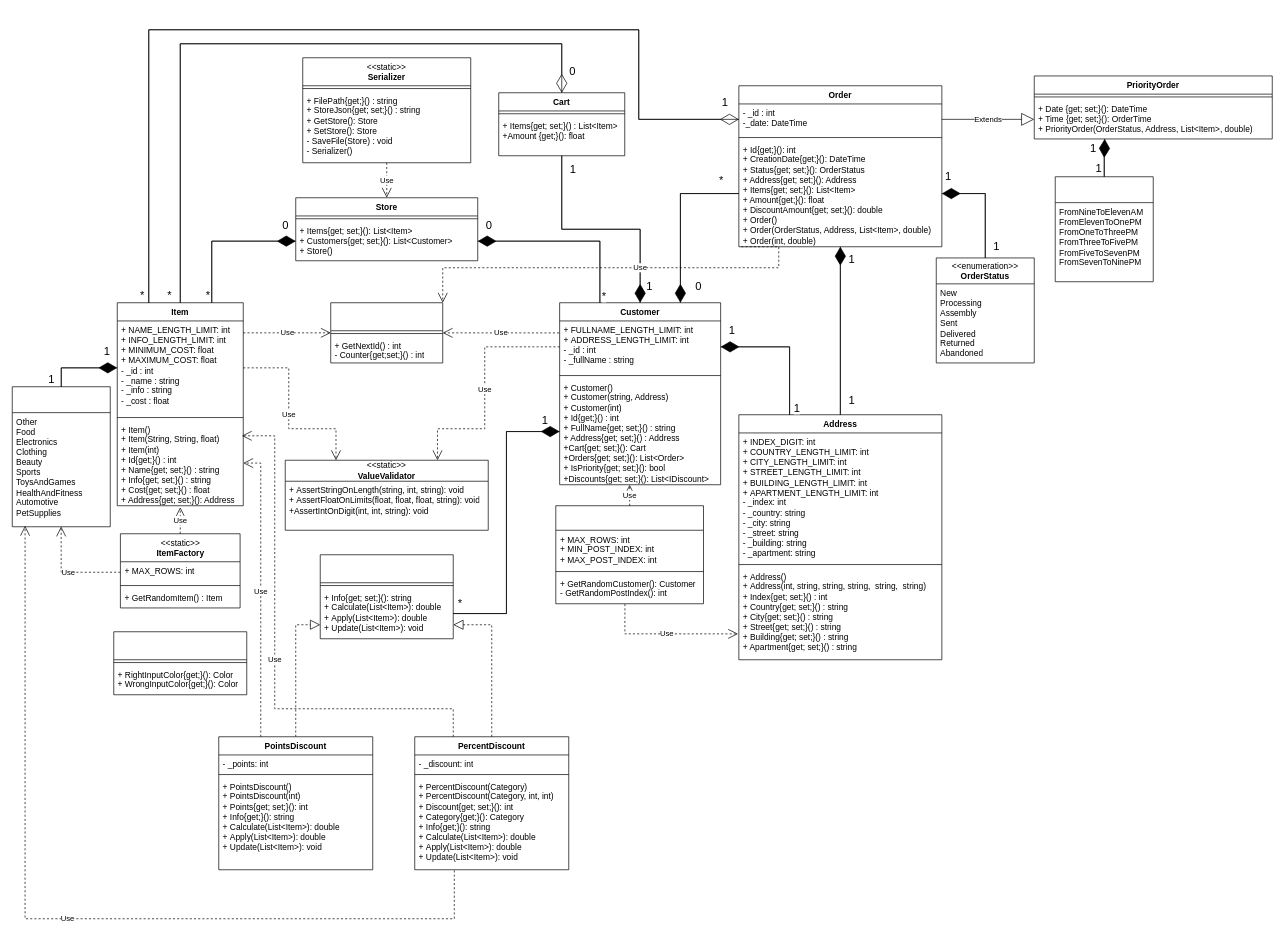
Some shapes in this 1285 by 941 pixel diagram are drawn without their labels. Each missing label, with the box of its shape:
<<enumeration>> Category: (12, 386, 110, 527)
<<enumeration>> OrderTime: (1055, 176, 1153, 282)
<<interface>> IDiscount: (320, 554, 453, 639)
<<static>> AppColors: (113, 631, 247, 695)
<<static>> CustomerFactory: (555, 505, 704, 604)
<<static>> IdGenerator: (330, 302, 443, 363)
